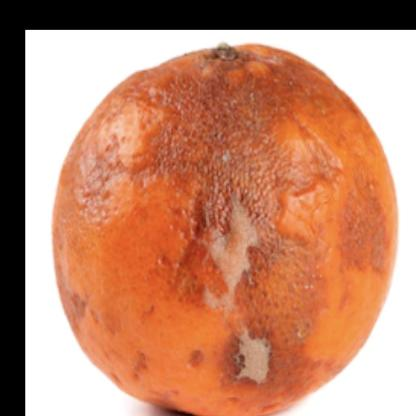rotten: (54, 42, 400, 413)
